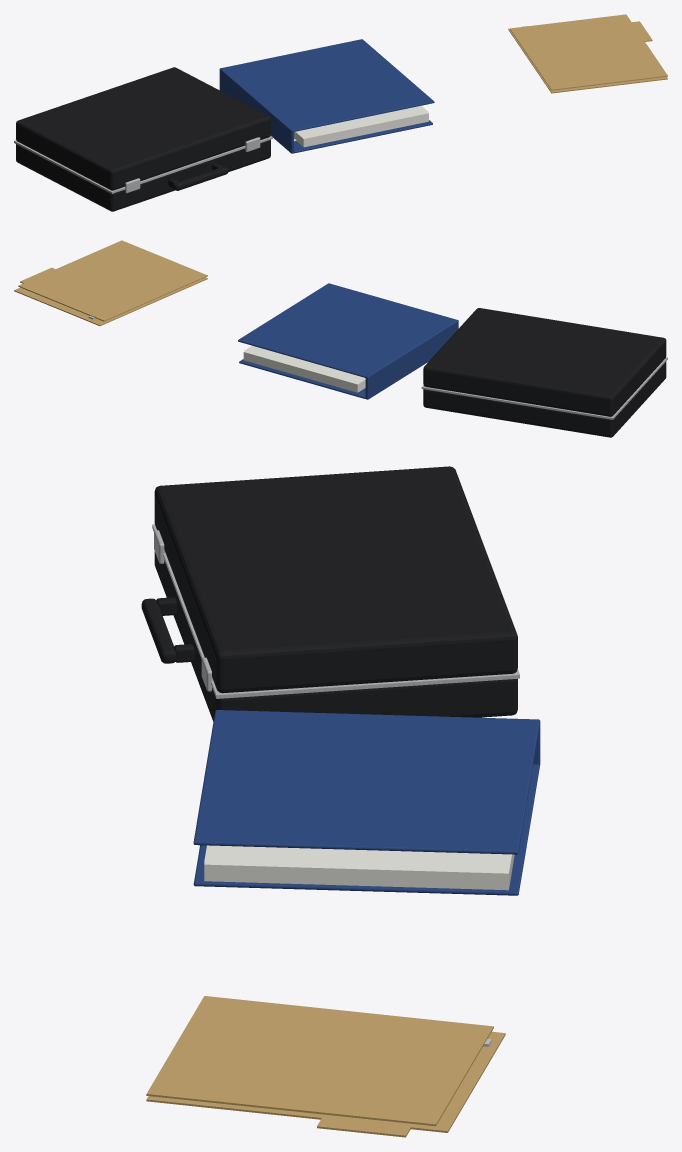
The model's file is menu_props.glb.
3 renders of one model, top to bottom at view 1: azimuth 30°, elevation 25°; view 2: azimuth 150°, elevation 25°; view 3: azimuth 270°, elevation 25°, orthographic. The views are drawn at different scales.
Visible parts, largest first — view 1: menu_case_cover_art, menu_binder_cover_art, menu_case_lid, menu_folder_cover_art, menu_case_base, menu_binder_cover, menu_folder_cover, menu_binder_spine, menu_binder_pages, menu_binder_page_right, menu_case_seam, menu_binder_back (+2 smaller); view 2: menu_case_cover_art, menu_binder_cover_art, menu_case_lid, menu_folder_cover_art, menu_case_base, menu_binder_cover, menu_binder_spine, menu_folder_cover, menu_binder_pages, menu_binder_page_right, menu_folder_back, menu_case_seam (+1 smaller); view 3: menu_case_cover_art, menu_binder_cover_art, menu_folder_cover_art, menu_case_lid, menu_binder_cover, menu_case_base, menu_folder_cover, menu_binder_pages, menu_binder_page_right, menu_binder_back, menu_folder_back, menu_case_seam (+2 smaller).
Part boxes in pixels (bbox=[...]): menu_case_cover_art: bbox=[26, 70, 260, 166]; menu_binder_cover_art: bbox=[233, 43, 422, 125]; menu_case_lid: bbox=[16, 67, 270, 190]; menu_folder_cover_art: bbox=[517, 18, 660, 85]; menu_case_base: bbox=[16, 139, 270, 211]; menu_binder_cover: bbox=[222, 39, 434, 131]; menu_folder_cover: bbox=[510, 14, 667, 90]; menu_binder_spine: bbox=[219, 68, 293, 153]; menu_binder_pages: bbox=[295, 112, 428, 147]; menu_binder_page_right: bbox=[296, 105, 428, 137]; menu_case_seam: bbox=[14, 136, 272, 193]; menu_binder_back: bbox=[294, 120, 432, 153]; menu_case_cover_art: bbox=[432, 310, 656, 392]; menu_binder_cover_art: bbox=[250, 287, 445, 371]; menu_case_lid: bbox=[423, 308, 666, 416]; menu_folder_cover_art: bbox=[27, 244, 198, 316]; menu_case_base: bbox=[423, 361, 666, 437]; menu_binder_cover: bbox=[238, 283, 456, 377]; menu_binder_spine: bbox=[365, 320, 458, 399]; menu_folder_cover: bbox=[18, 240, 207, 321]; menu_binder_pages: bbox=[243, 351, 365, 392]; menu_binder_page_right: bbox=[244, 345, 365, 383]; menu_folder_back: bbox=[14, 277, 207, 325]; menu_case_seam: bbox=[421, 357, 667, 419]; menu_case_cover_art: bbox=[171, 471, 501, 646]; menu_binder_cover_art: bbox=[210, 718, 523, 843]; menu_folder_cover_art: bbox=[163, 1001, 477, 1118]; menu_case_lid: bbox=[154, 466, 517, 693]; menu_binder_cover: bbox=[193, 711, 539, 854]; menu_case_base: bbox=[154, 551, 517, 721]; menu_folder_cover: bbox=[146, 996, 493, 1126]; menu_binder_pages: bbox=[204, 854, 514, 890]; menu_binder_page_right: bbox=[204, 845, 511, 871]; menu_binder_back: bbox=[193, 764, 539, 895]; menu_folder_back: bbox=[146, 1031, 505, 1132]; menu_case_seam: bbox=[152, 524, 519, 698].
Size of the model in its own units: 1.37 by 0.0906 by 0.3915.
